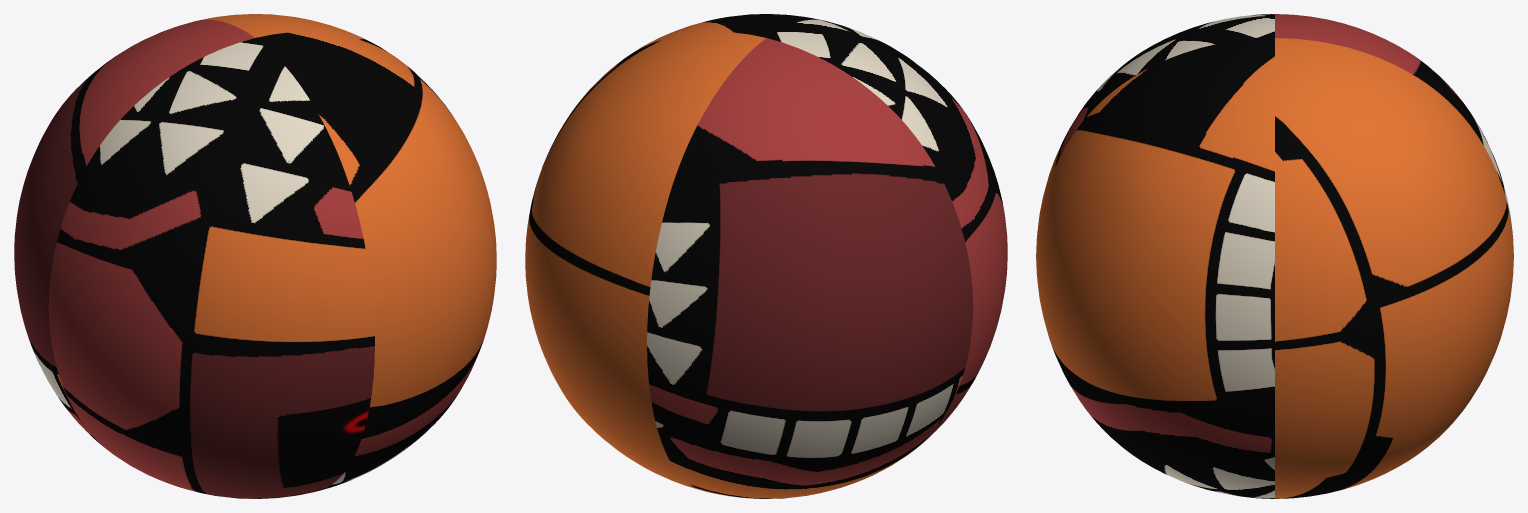
Rendered from enemyB.obj.
3 renders of one model, left to right at view 1: azimuth 30°, elevation 25°; view 2: azimuth 150°, elevation 25°; view 3: azimuth 270°, elevation 25°, orthographic.
Visible parts, largest first — view 1: kunBall.001; view 2: kunBall.001; view 3: kunBall.001.
Part boxes in pixels (x1,y1,x2,y2): kunBall.001: [14, 14, 496, 498]; kunBall.001: [525, 14, 1007, 498]; kunBall.001: [1036, 14, 1513, 498].
Size of the model in its own units: 1.23 by 1.24 by 1.23.
1 material, 1 textured.
